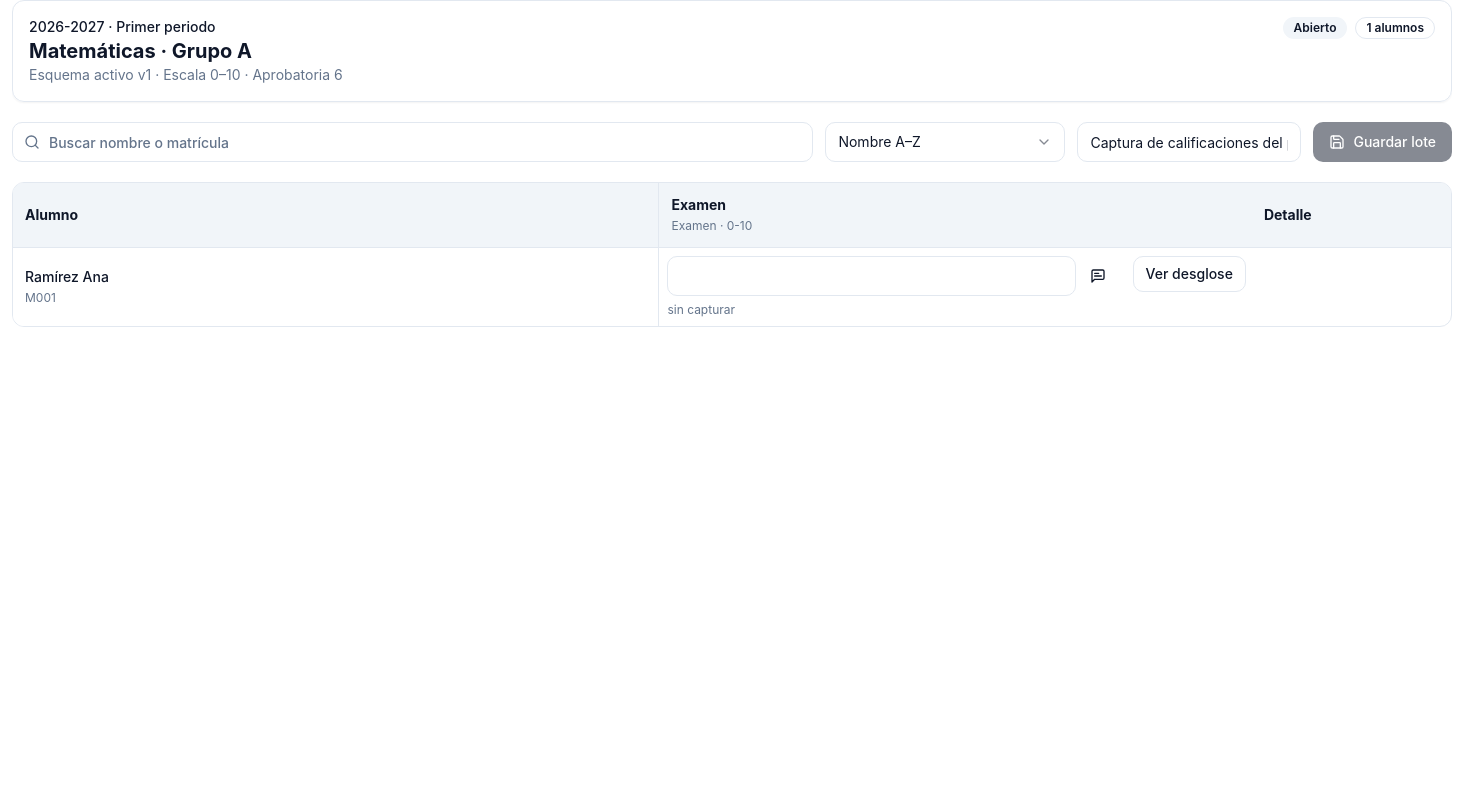
Scenario: Paso 11: editor accesible y explícito › edita, marca sin guardar, guarda un lote y confirma recarga
The width and height of the screenshot is (1464, 810).
Type "9" into the number field named "Ramírez Ana, Examen, calificación de 0 a 10". click: x=872, y=276
box: [668, 256, 1076, 296]
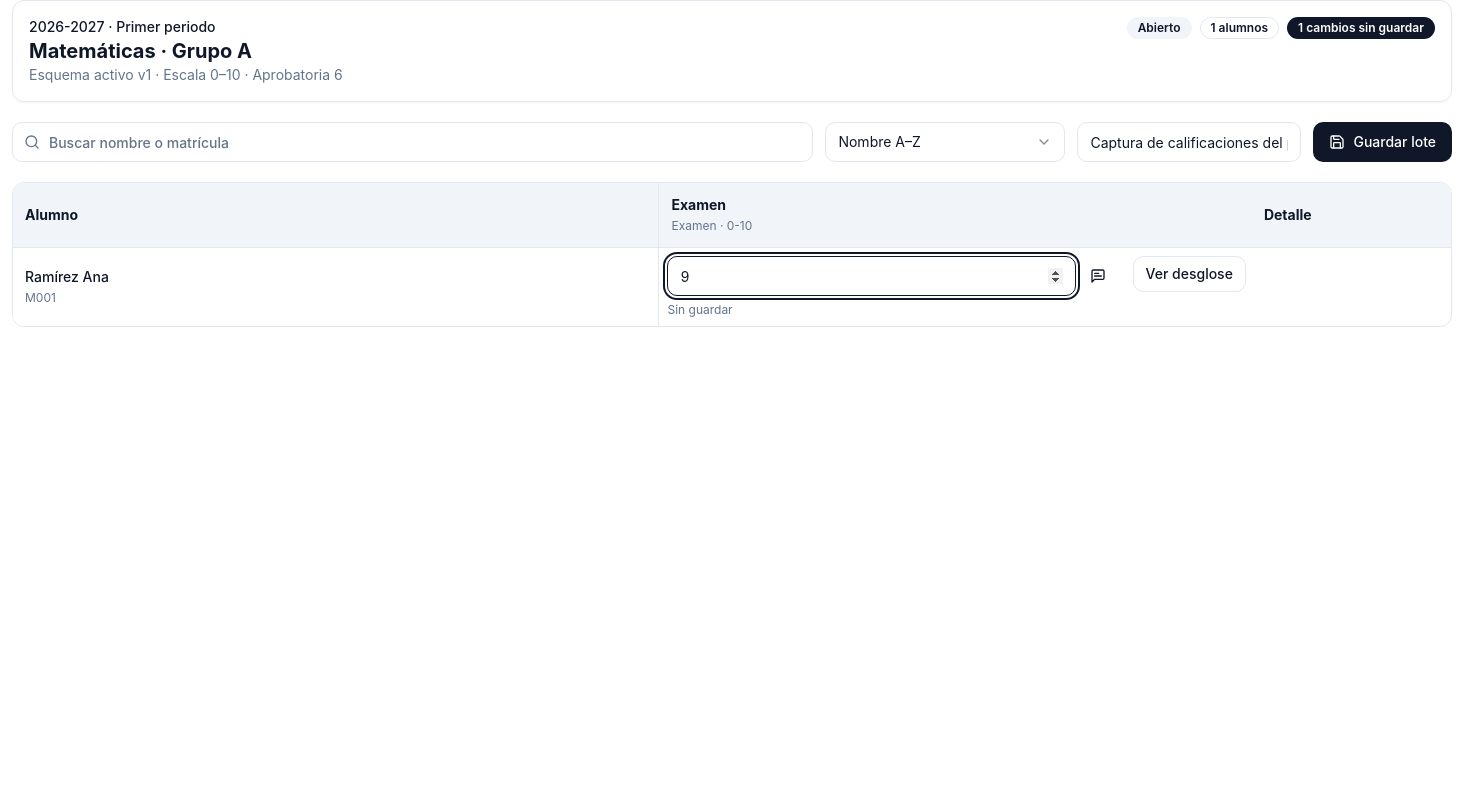
Expected: the text "Sin guardar" is shown, [668, 302, 733, 317]
Click the button "Guardar lote". click: x=1383, y=142
box: [1313, 122, 1452, 162]
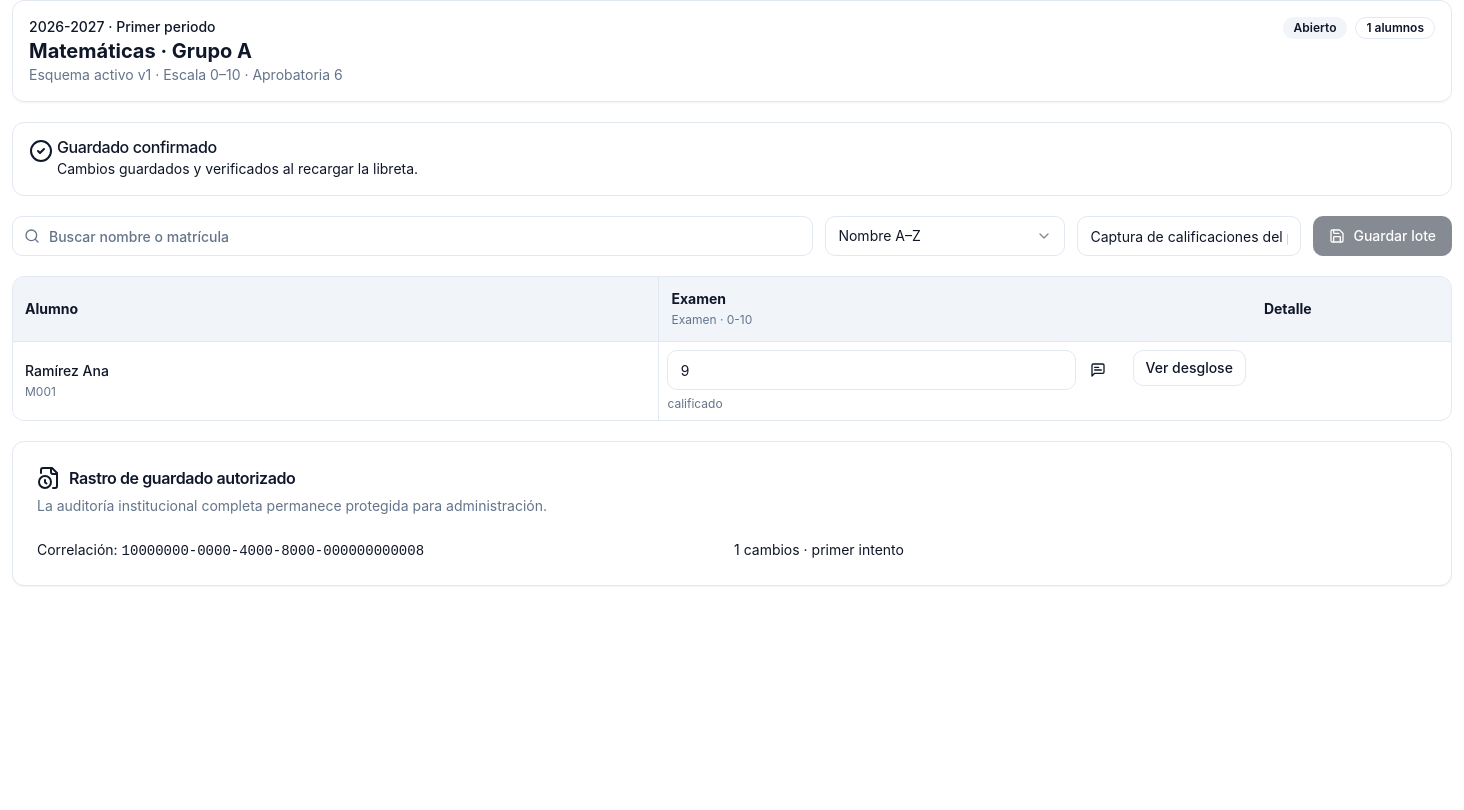
Expected: the text "Cambios guardados y verificados al recargar la libreta." is shown, [57, 160, 418, 177]
Expected: the element named "Recibo de auditoría del guardado" shows "10000000-0000-4000-8000-000000000008", [122, 543, 424, 559]
